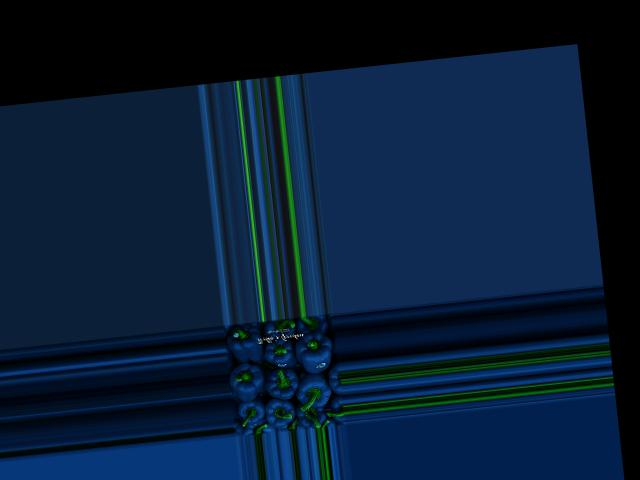bell_pepper: (293, 313, 333, 340)
